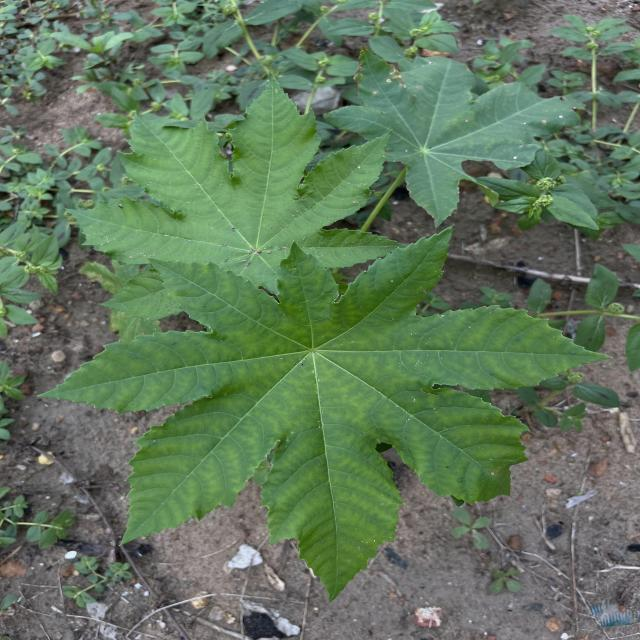Ricinus communis linn: (32, 220, 617, 606)
